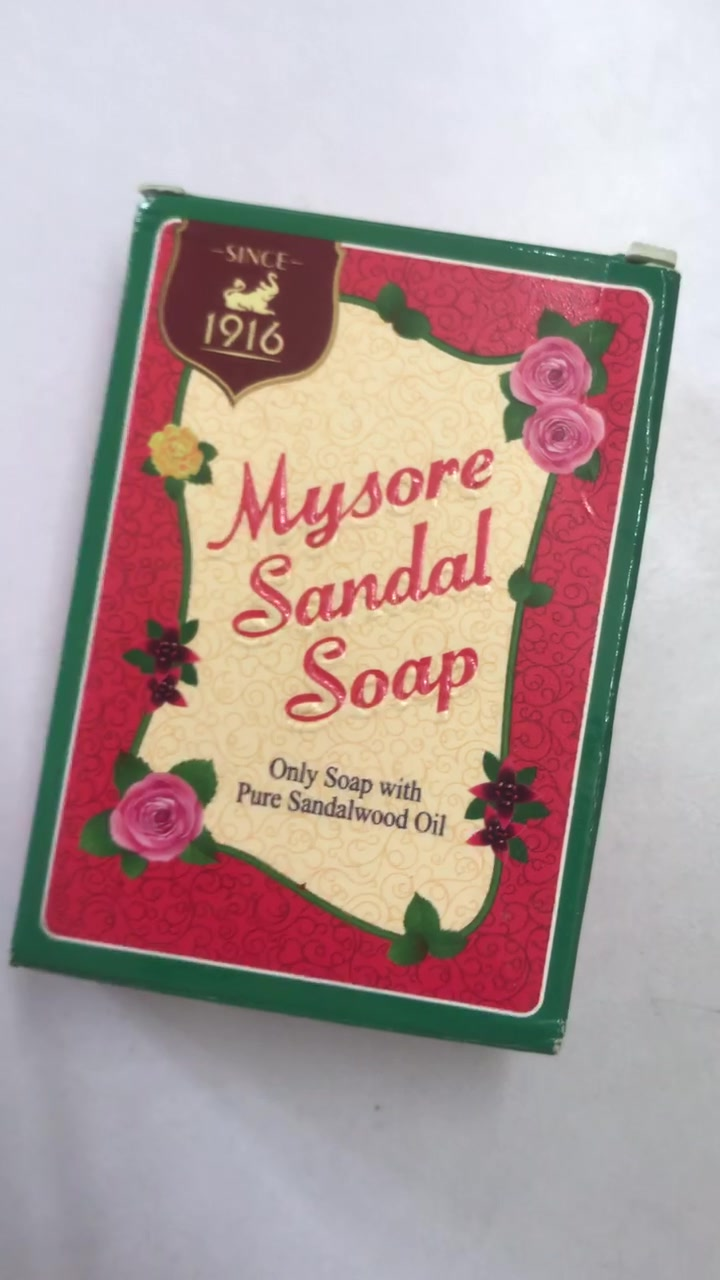mysore sandal soap: (26, 181, 681, 1052)
